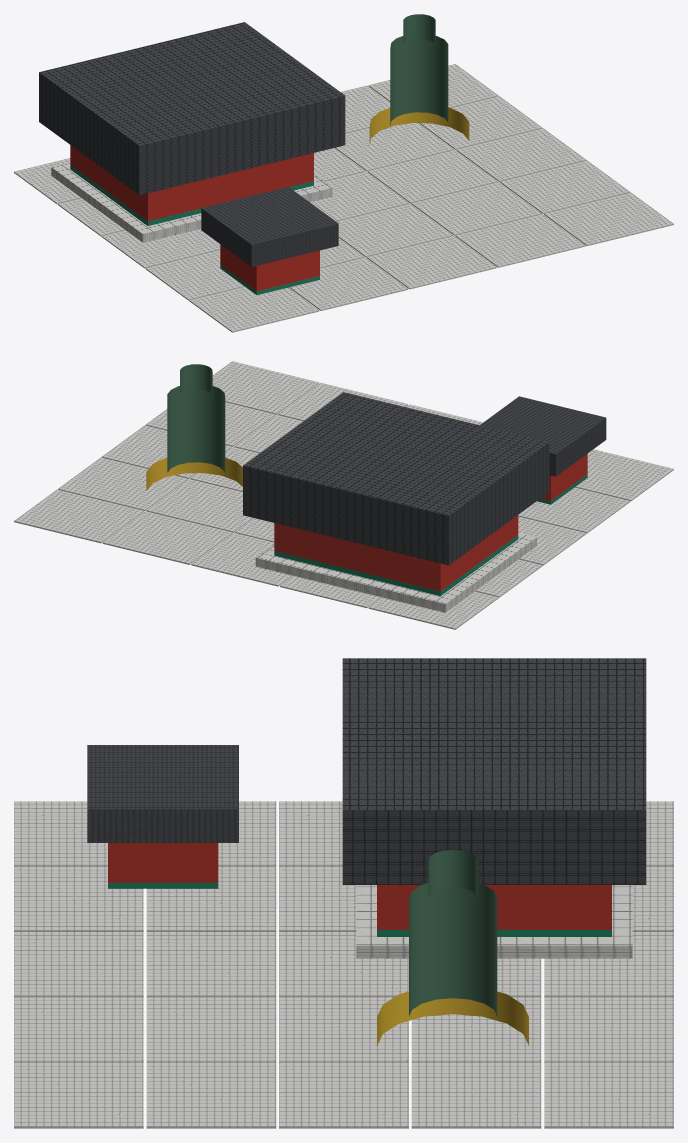
3 views of the same model, one above another, from view 1: azimuth 30°, elevation 25°; view 2: azimuth 150°, elevation 25°; view 3: azimuth 270°, elevation 25° (orthographic). The views are drawn at different scales.
Parts seen in each view (by area): view 1: 28185_B45_Heungryunsa_Temple; view 2: 28185_B45_Heungryunsa_Temple; view 3: 28185_B45_Heungryunsa_Temple.
Part boxes in pixels (left/top/right/bottom): 28185_B45_Heungryunsa_Temple: left=14, top=14, right=673, bottom=332; 28185_B45_Heungryunsa_Temple: left=14, top=361, right=673, bottom=629; 28185_B45_Heungryunsa_Temple: left=14, top=658, right=673, bottom=1128.
Size of the model in its own units: 55.8 by 15 by 47.8.
1 material, 1 textured.
